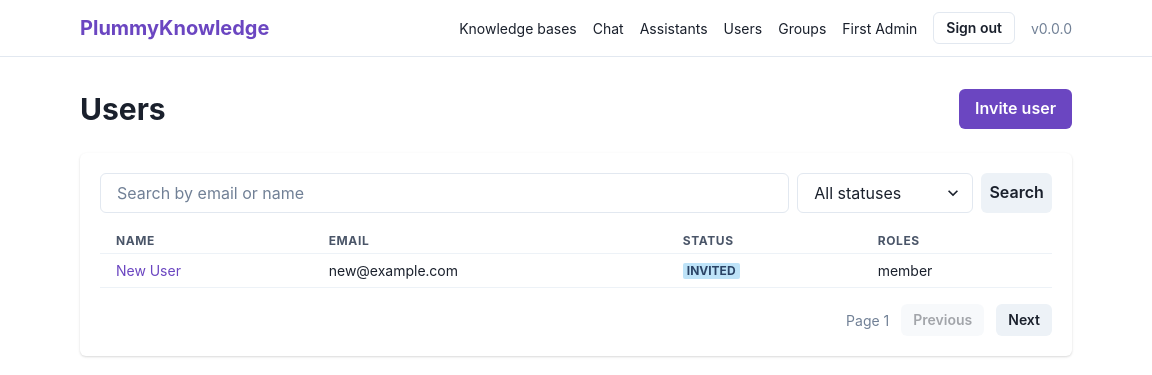
Test: administration pages › lists users and pages with the cursor, sending only allowlisted parameters
The width and height of the screenshot is (1152, 375).
expect the link "New User" is shown: met, box [116,262,181,279]
expect the link "Users" is shown: met, box [724,18,762,38]
Click the button "Next".
click(1024, 320)  # box [996,304,1052,336]
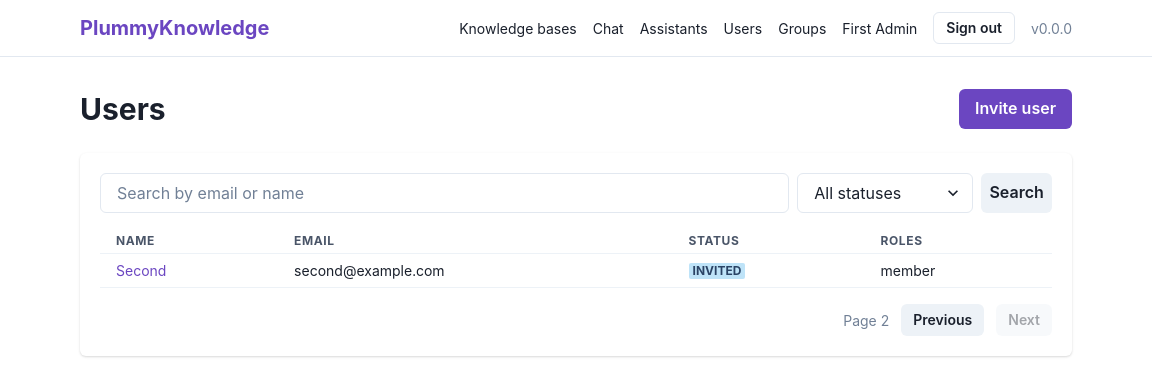
expect the link "Second" is shown: met, box [116,262,166,279]
